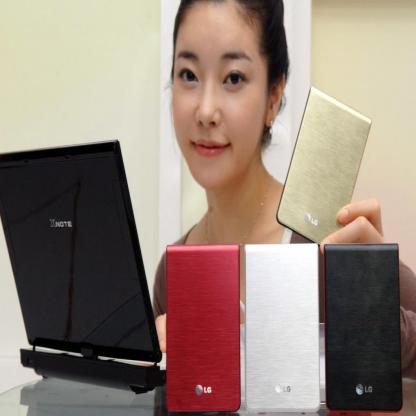board: (0, 137, 163, 394)
